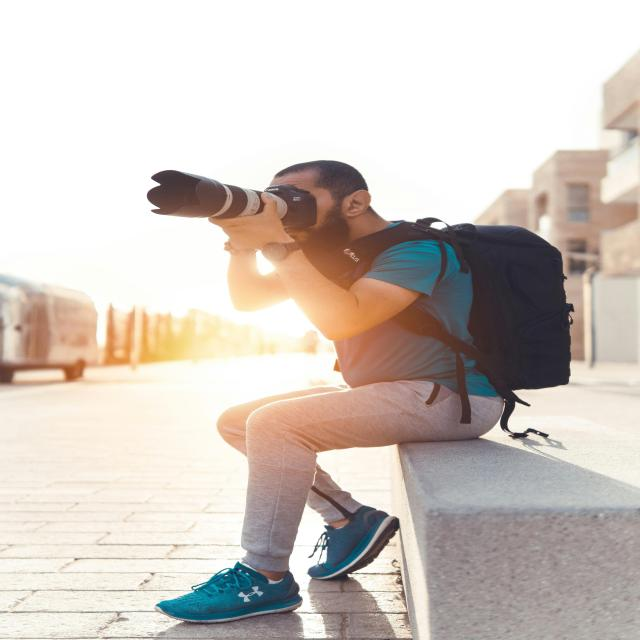sit: (157, 142, 570, 640)
